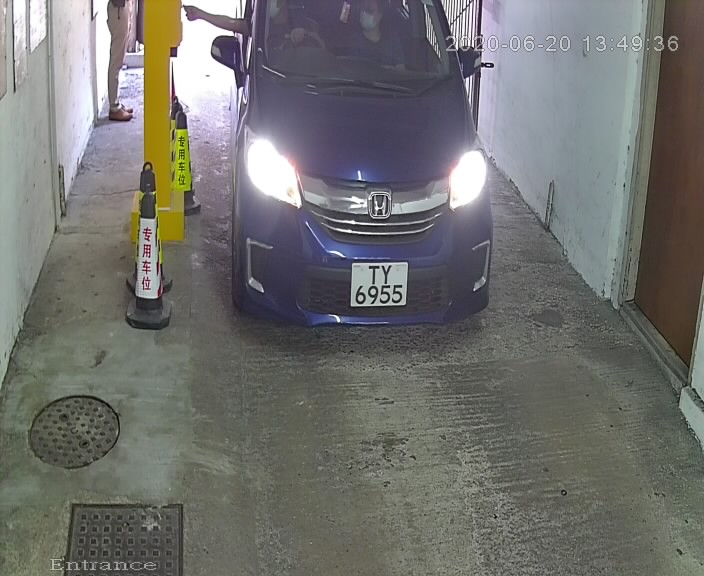privatecar: (204, 3, 509, 350)
